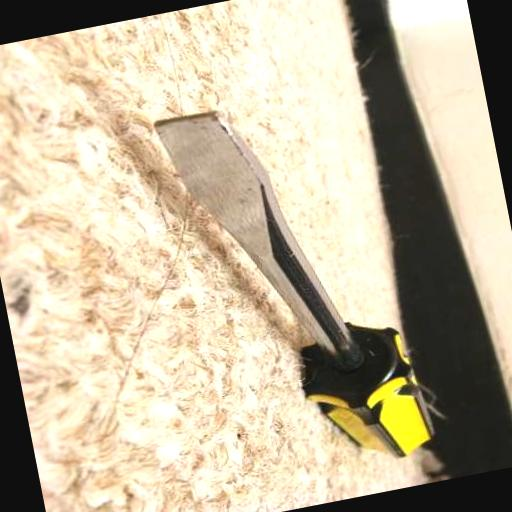screwdriver: (153, 80, 437, 492)
